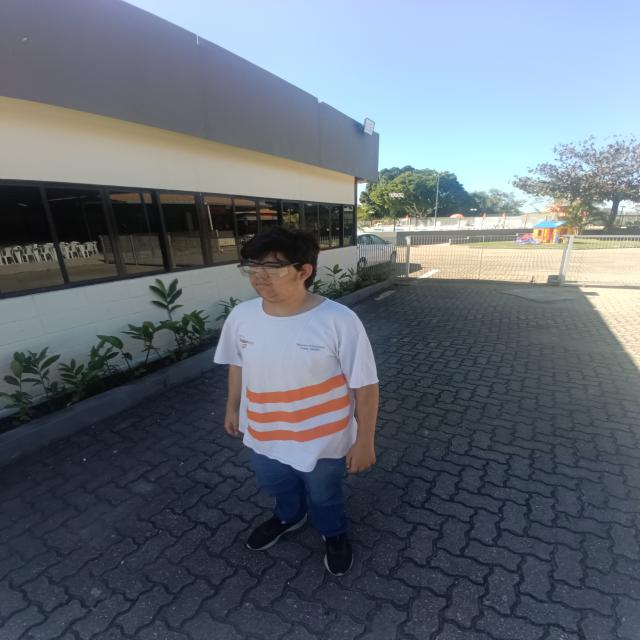oculos-epi: (236, 260, 305, 280)
